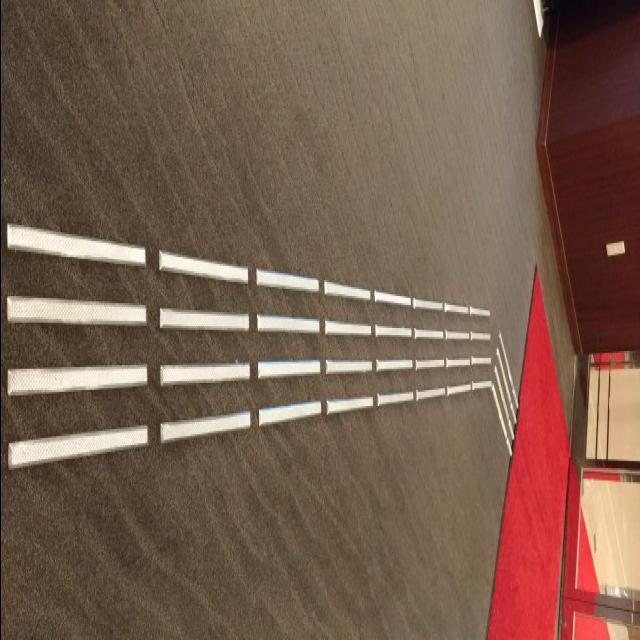tactile-guide-path: (1, 214, 490, 473), (490, 323, 522, 457)
